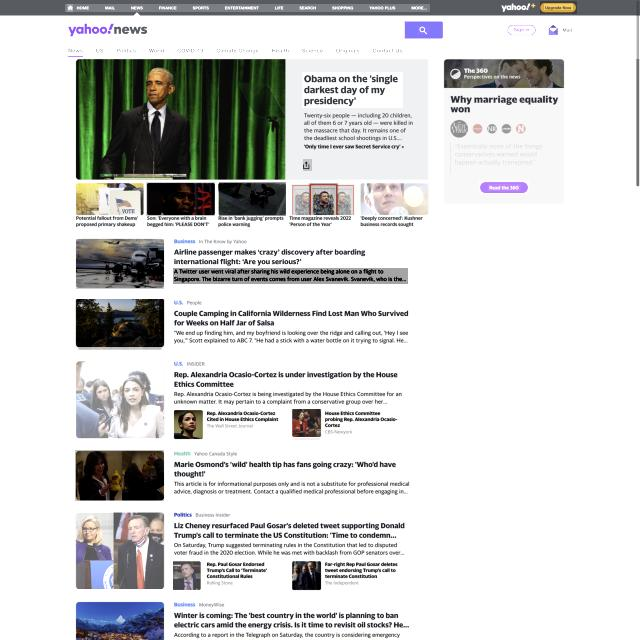CheckBox: (479, 180, 529, 194), (405, 22, 443, 38), (540, 1, 577, 14), (544, 23, 578, 36), (506, 24, 536, 36)
CheckedTextView: (164, 20, 443, 40)
ImageView: (444, 59, 564, 205)
Input field: (173, 268, 408, 284)
bag: (0, 0, 640, 59)
breadcrumbs: (172, 247, 370, 265)
carousel: (546, 24, 560, 36), (304, 159, 314, 171), (417, 26, 429, 35), (67, 4, 73, 12)
copy: (76, 59, 286, 179), (75, 360, 164, 440), (76, 512, 164, 590), (75, 450, 164, 501), (75, 300, 165, 350), (76, 239, 164, 289), (146, 182, 215, 216), (360, 182, 428, 216), (219, 182, 286, 216), (75, 183, 144, 215), (174, 560, 204, 591), (292, 410, 321, 440), (174, 410, 203, 438)
data feed: (488, 184, 521, 191), (544, 4, 573, 10), (514, 27, 530, 33), (562, 26, 573, 34)
date picker: (67, 20, 150, 39)
decoration: (65, 46, 408, 58), (65, 4, 430, 12)
image: (302, 72, 403, 108)
